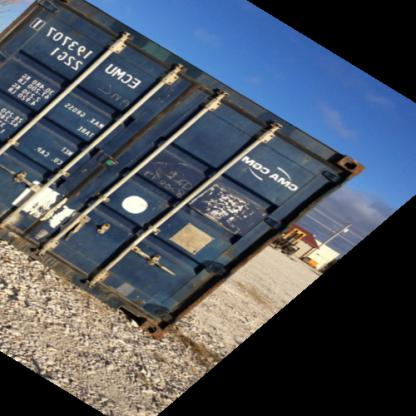Damage: (3, 174, 76, 254), (144, 145, 204, 205), (209, 175, 262, 235), (120, 292, 167, 327), (25, 11, 48, 33)
